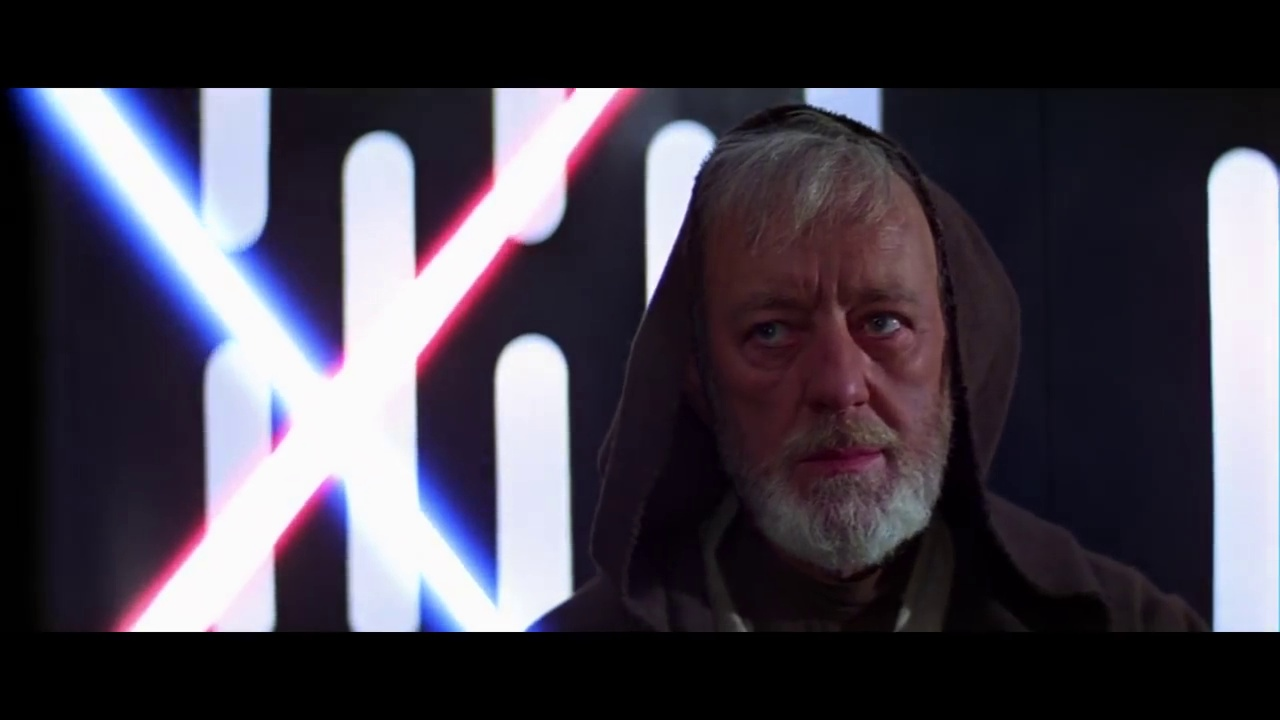lightsaber: (16, 84, 589, 639)
